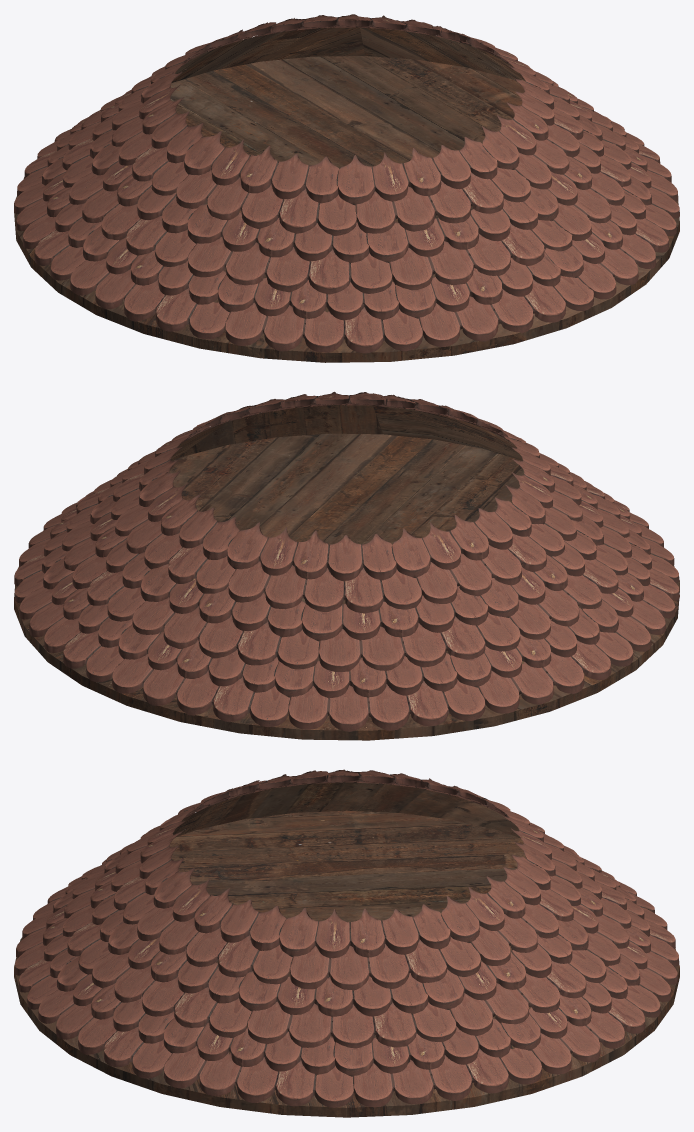
File: second_roof_LOD2.fbx
3 views of the same model, one above another, from view 1: azimuth 30°, elevation 25°; view 2: azimuth 150°, elevation 25°; view 3: azimuth 270°, elevation 25° (orthographic).
Parts seen in each view (by area): view 1: Cylinder.008; view 2: Cylinder.008; view 3: Cylinder.008.
Boxes of the visible parts, bbox=[...] form: Cylinder.008: bbox=[14, 14, 679, 362]; Cylinder.008: bbox=[14, 391, 679, 740]; Cylinder.008: bbox=[14, 769, 679, 1117].
Size of what is drawn, in the model's own units: 219 by 49.99 by 219.
